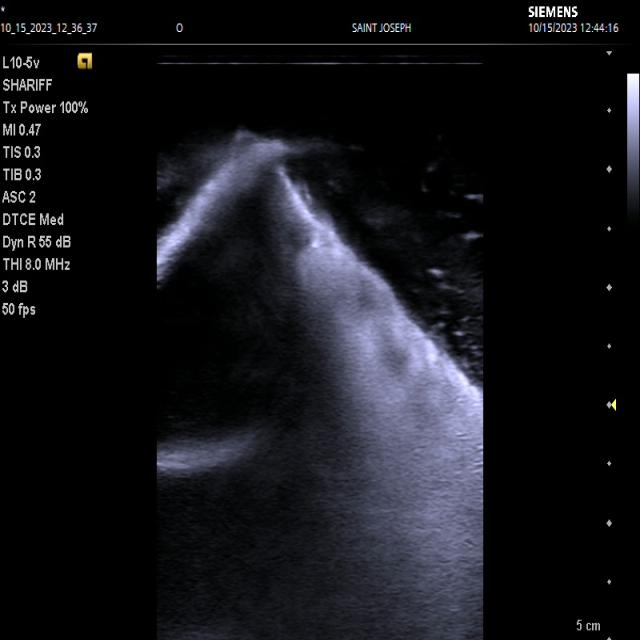tissue: (152, 136, 485, 640)
